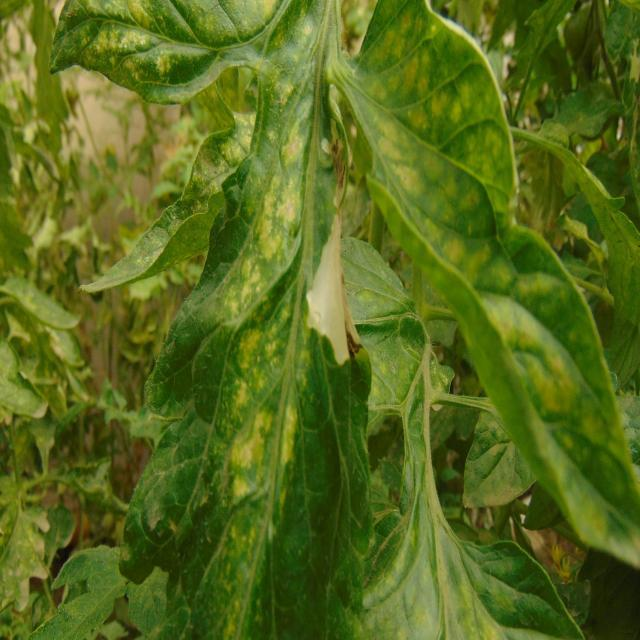Tuta absoluta: (293, 212, 362, 369)
